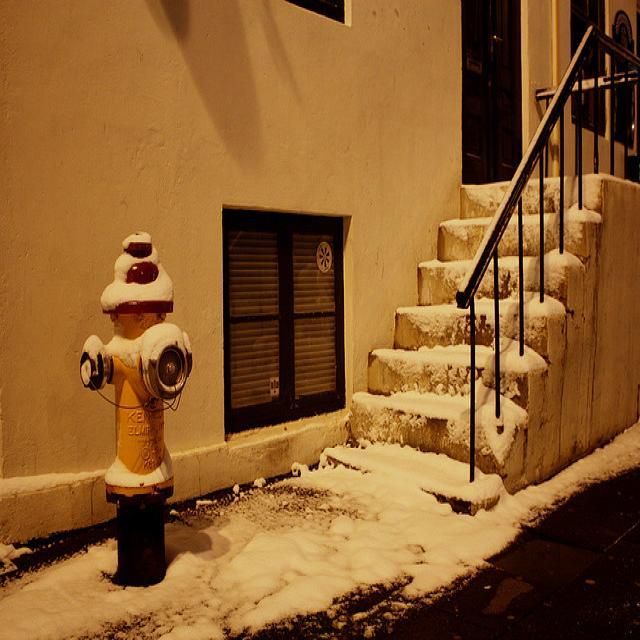fire_hydrant: (81, 237, 196, 586)
